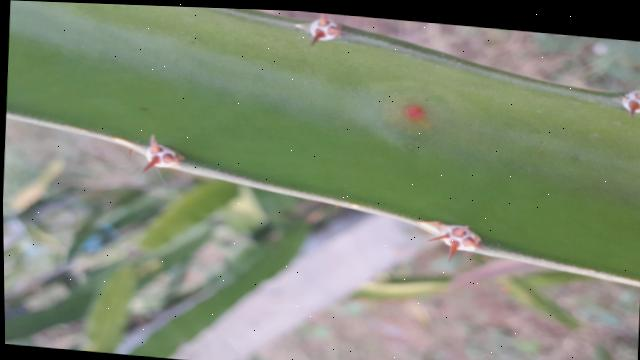stemcanker: (383, 97, 443, 136)
